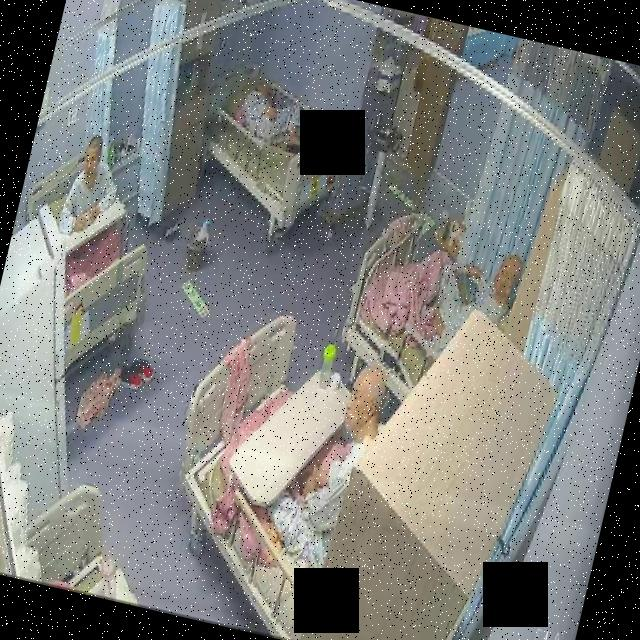bed: (143, 300, 383, 640), (0, 138, 176, 387), (330, 204, 494, 418), (190, 55, 362, 238)
lie: (230, 79, 316, 165)
patient: (254, 345, 396, 580), (413, 228, 527, 365), (54, 131, 130, 244), (230, 78, 316, 164)
sit: (255, 344, 399, 584), (414, 228, 528, 364), (55, 132, 129, 242)
